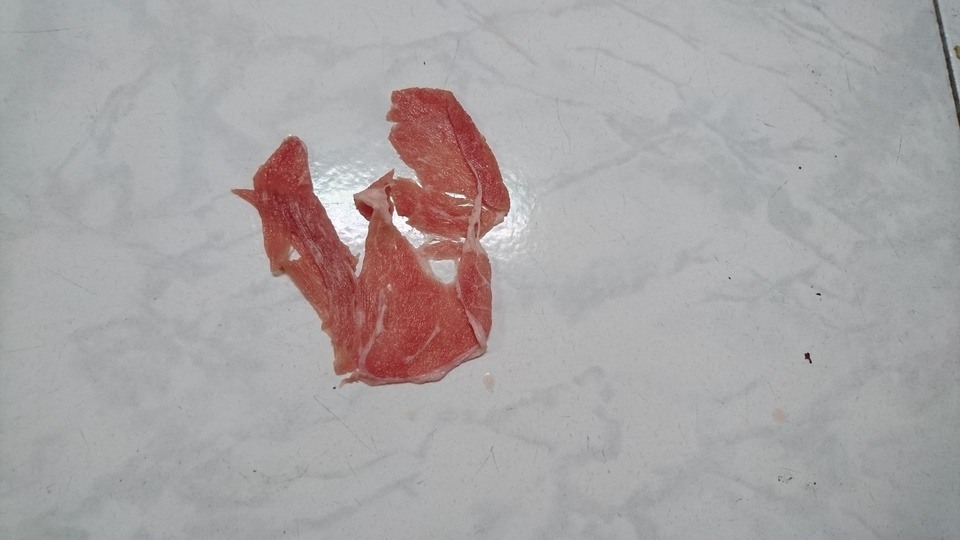restructured meat: (238, 82, 527, 389)
